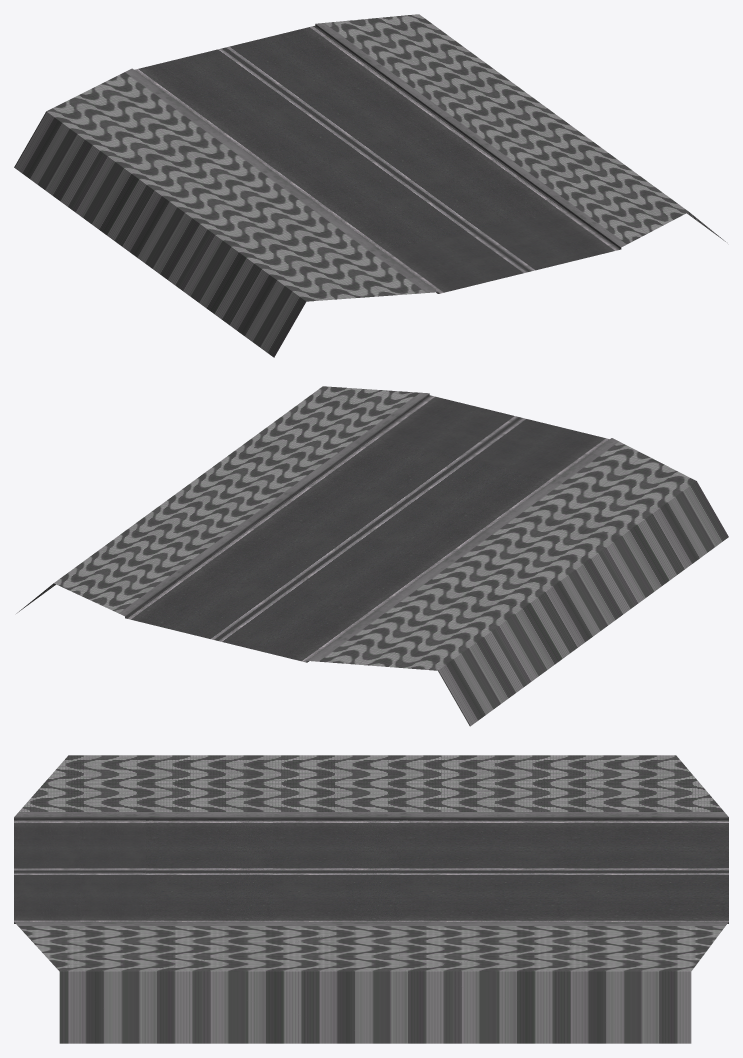
File: road35_sfe.obj
The picture shows the model from 3 angles, top to bottom: view 1: azimuth 30°, elevation 25°; view 2: azimuth 150°, elevation 25°; view 3: azimuth 270°, elevation 25°; orthographic projection. The views are drawn at different scales.
Visible parts, largest first — view 1: road35_sfe; view 2: road35_sfe; view 3: road35_sfe.
Part boxes in pixels (x1,y1,x2,y2): road35_sfe: [14, 14, 725, 357]; road35_sfe: [16, 386, 728, 726]; road35_sfe: [14, 755, 728, 1043].
Size of the model in its own units: 36.99 by 3.78 by 43.43.
Materials: 2 (2 with a texture image).
